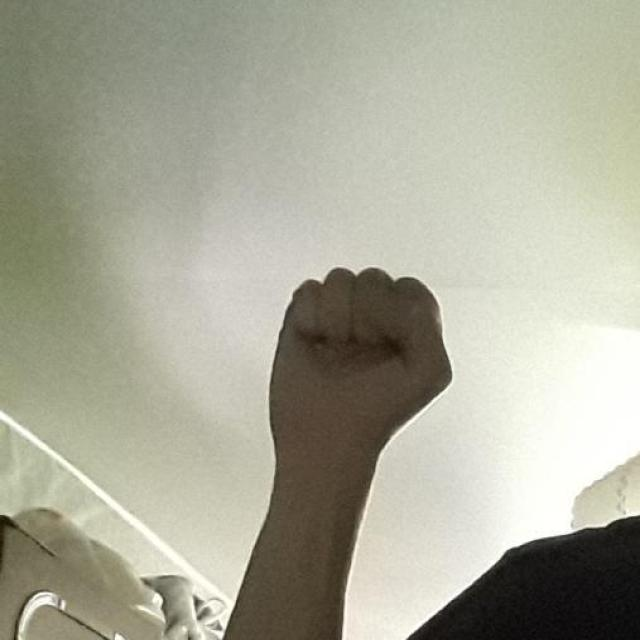hand: (266, 264, 454, 472)
